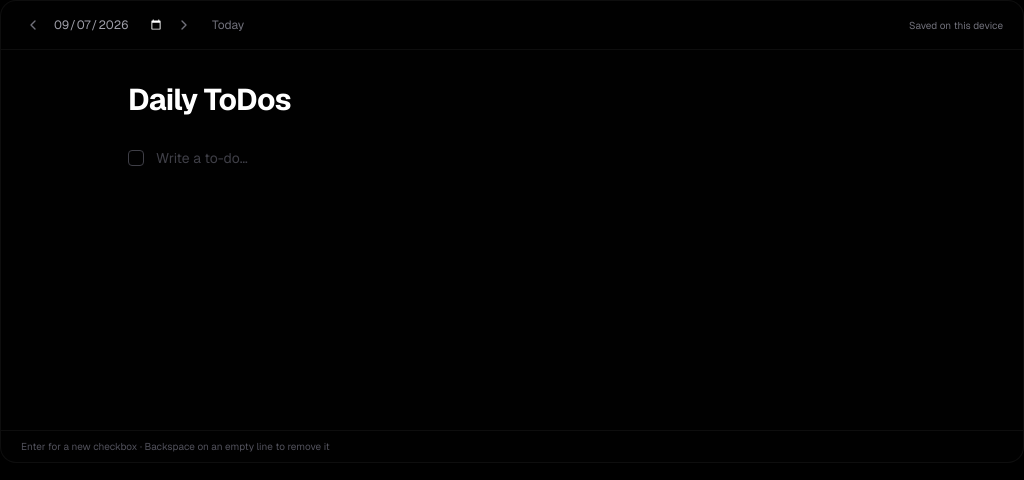
Test case: splits a line at the cursor and ignores Enter during composition
The image size is (1024, 480).
In the text box named "New todo": (526, 158) [156,146,896,170], type "FirstSecond"
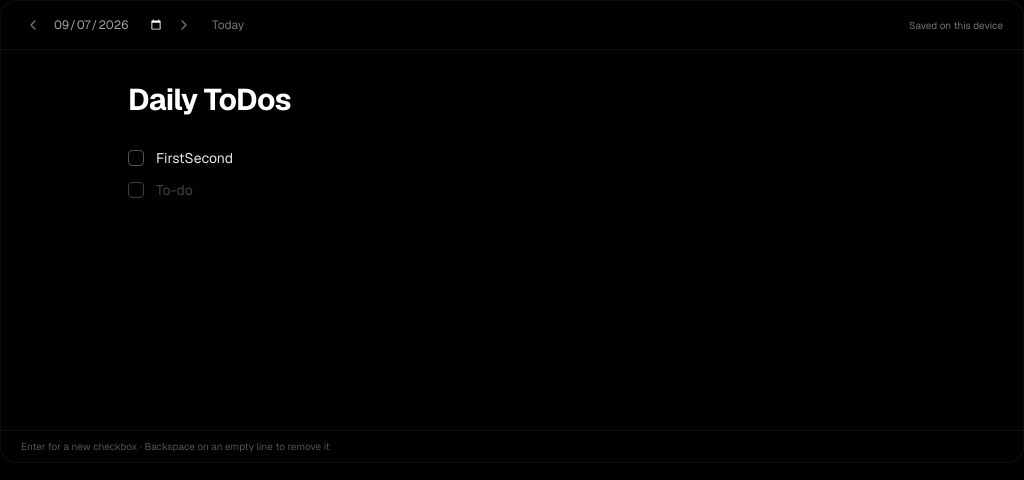
Press Enter in the text box named "Todo line 1", box [156,146,896,170]
Press Enter in the text box named "Todo line 1", box [156,146,896,170]
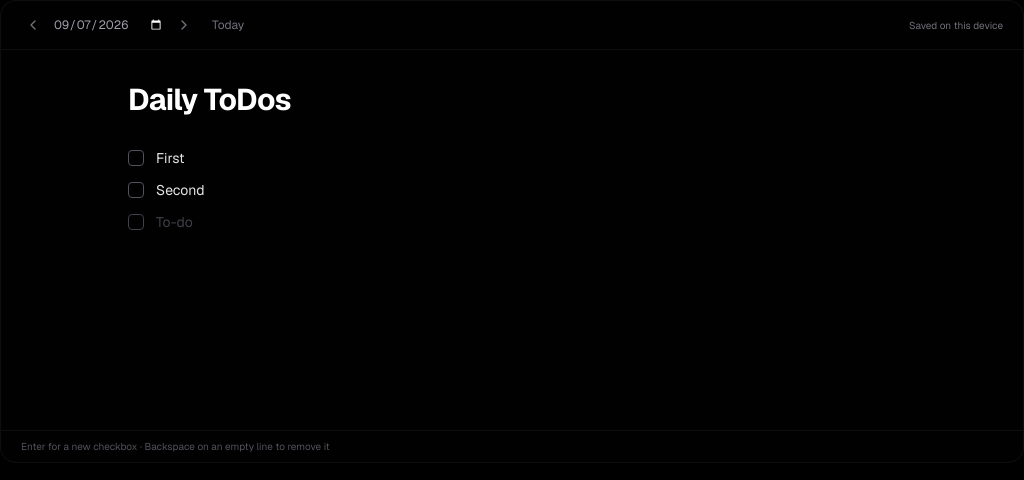
Expected: the text box named "Todo line 2" holds "Second", [156,178,896,202]
Expected: the text box named "Todo line 1" holds "First", [156,146,896,170]
